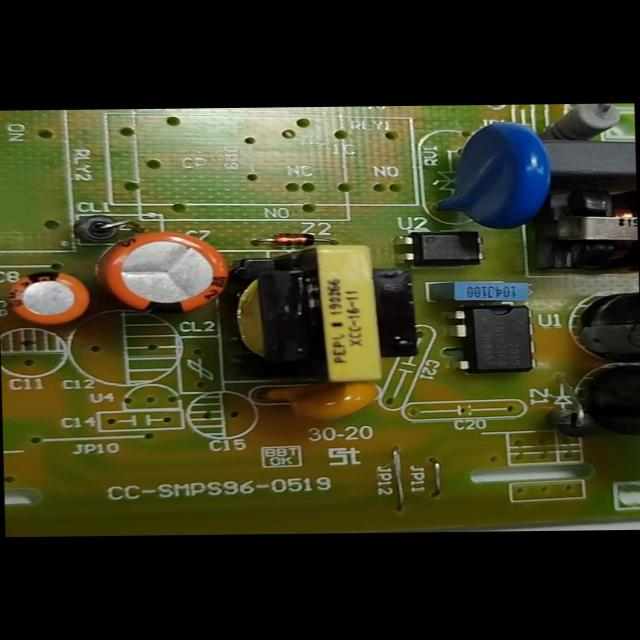Cap1: (90, 217, 242, 324)
Cap2: (0, 263, 99, 330)
Cap3: (561, 282, 639, 365)
Cap4: (547, 354, 639, 448)
MOSFET: (442, 295, 546, 378)
Mov: (427, 117, 558, 239)
Resistor: (552, 103, 624, 146)
Transformer: (211, 234, 421, 393), (522, 184, 638, 279)
